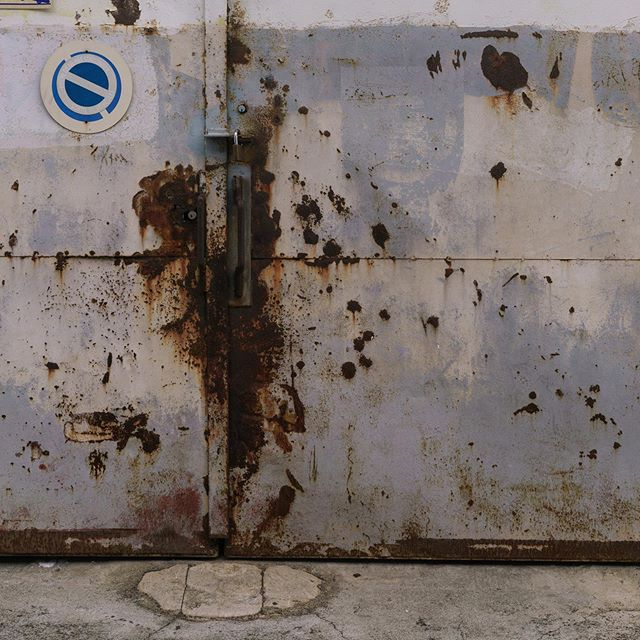lock: (225, 127, 265, 173)
sign: (35, 31, 140, 135)
